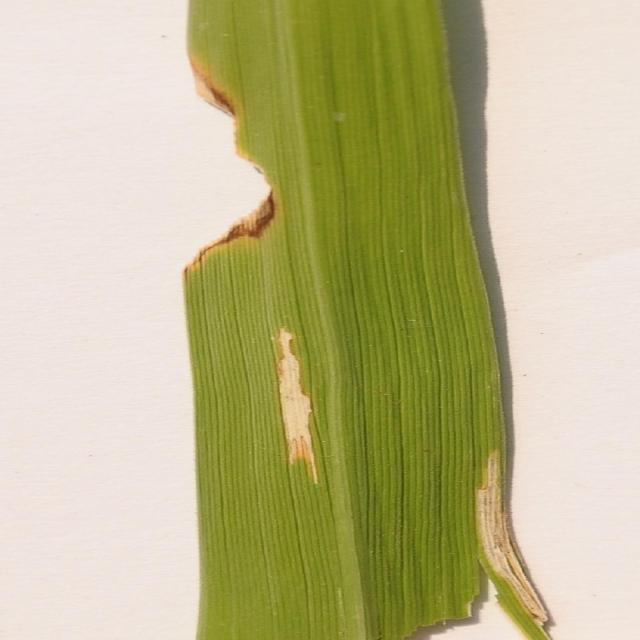leaf blight: (173, 47, 285, 271), (457, 445, 562, 640), (241, 324, 354, 485)
